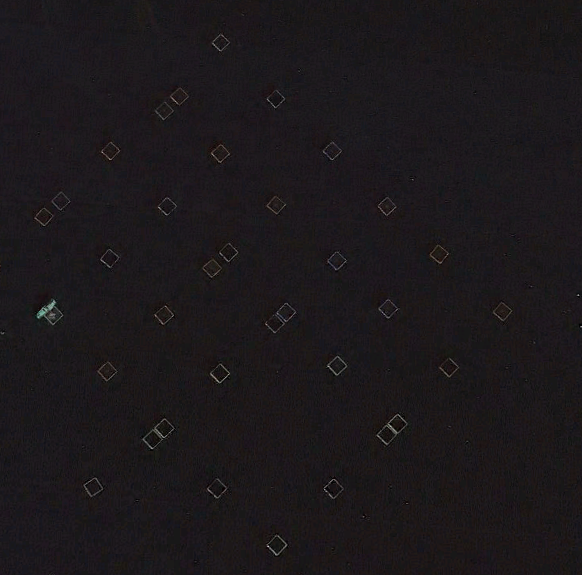ship: (32, 295, 57, 319)
square: (311, 128, 344, 165), (37, 297, 68, 334), (258, 529, 293, 561), (45, 184, 79, 216), (205, 357, 237, 390), (201, 468, 233, 500), (319, 477, 348, 510), (79, 472, 108, 503), (372, 292, 401, 322), (209, 140, 238, 170), (96, 135, 124, 166), (427, 239, 454, 271), (261, 81, 289, 111), (150, 190, 177, 221), (216, 237, 243, 268), (370, 417, 395, 449), (324, 244, 348, 277), (201, 252, 225, 283), (257, 308, 283, 336), (273, 300, 299, 327), (169, 79, 193, 108), (386, 408, 410, 437), (486, 294, 511, 321), (435, 355, 460, 382), (376, 192, 400, 220), (325, 355, 349, 382), (150, 301, 174, 327), (31, 203, 55, 228), (96, 359, 119, 385), (152, 97, 174, 124), (265, 191, 288, 216), (95, 245, 118, 269), (211, 32, 228, 52)
